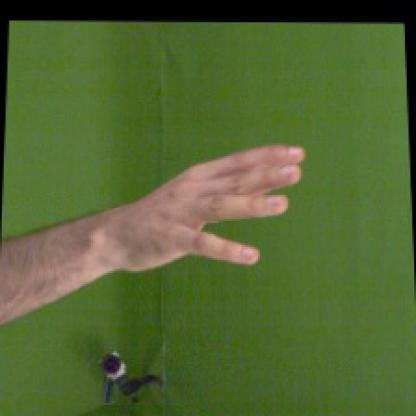Hand: (114, 145, 304, 264)
